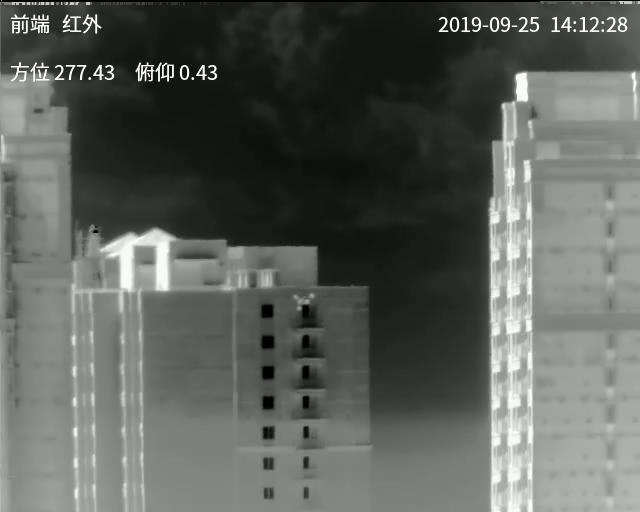uav: (290, 289, 315, 312)
